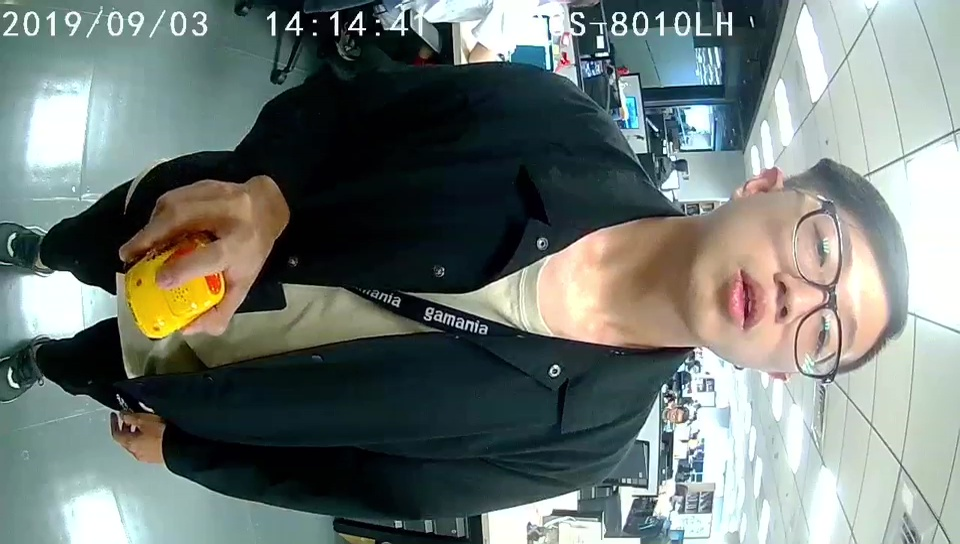car: (124, 238, 226, 340)
